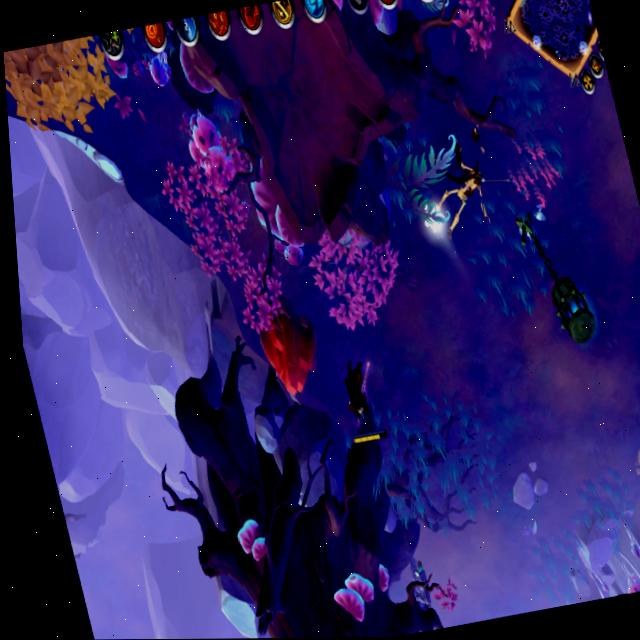10: (509, 196, 608, 357)
ore: (386, 553, 450, 635)
red: (326, 349, 393, 452)
stone: (417, 192, 450, 241)
tree: (249, 300, 333, 409)
wisp caged: (2, 31, 135, 155)
